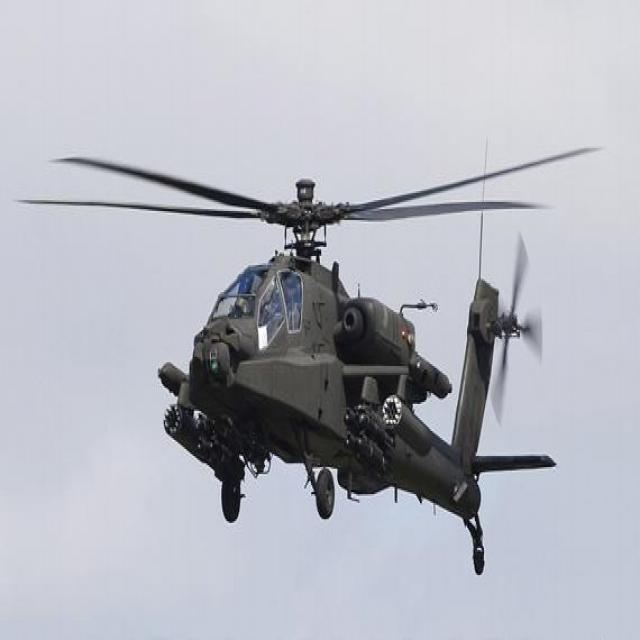MIL_HELO: (14, 134, 626, 568)
